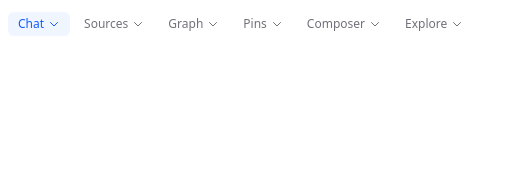
Test: ConversationTabs › renders Pins tab dropdown
This screenshot has width=506, height=172.
Click the button "Pins". click: click(263, 24)
box: [233,12,293,36]
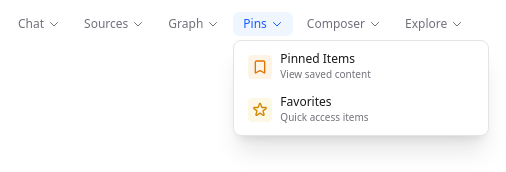
Result: the text "Pinned Items" is shown at [280,50,355,67]
Result: the text "Favorites" is shown at [280,93,332,110]
